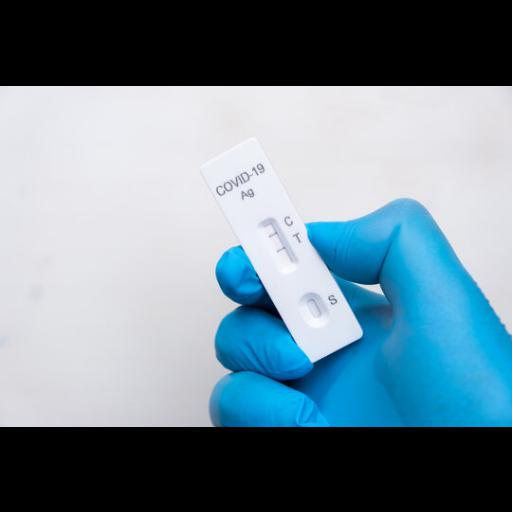Pos: (201, 134, 366, 365)
